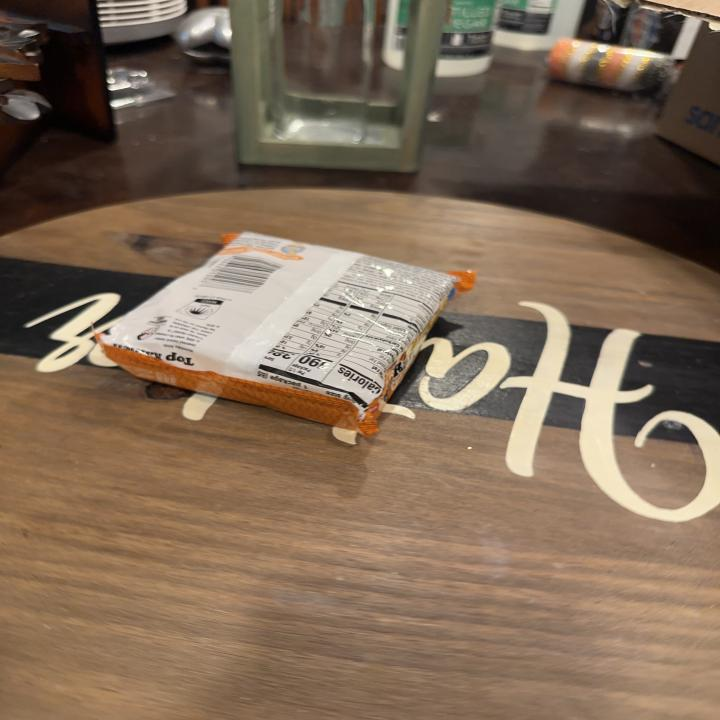Ramen: (88, 228, 479, 439)
